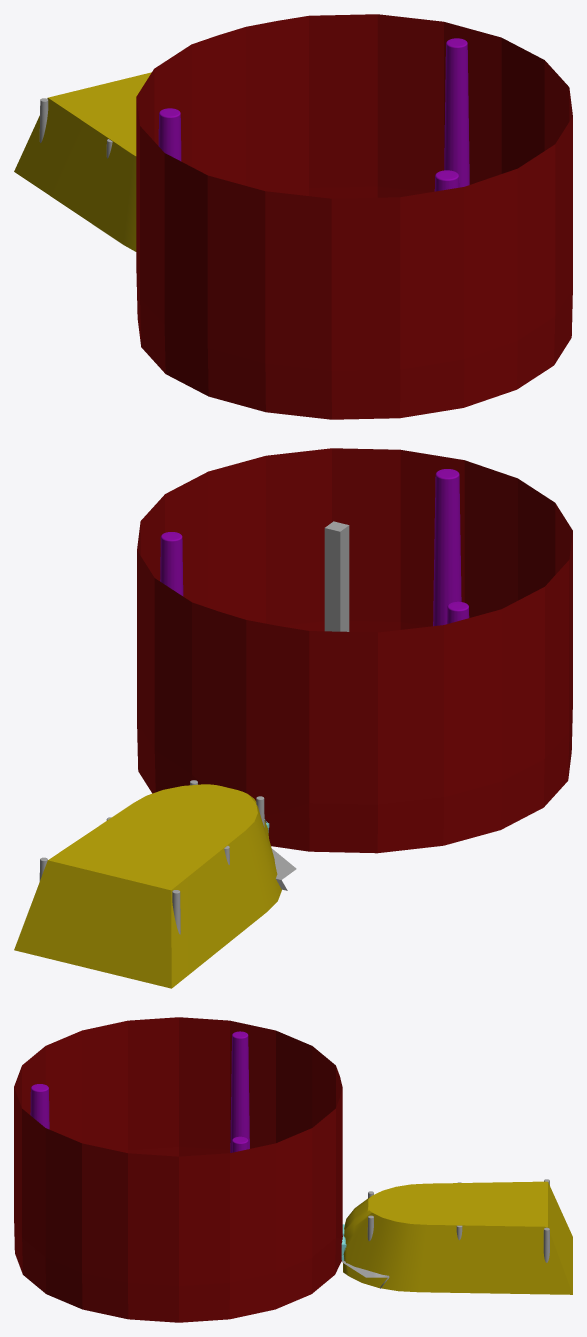
The picture shows the model from 3 angles, top to bottom: view 1: azimuth 30°, elevation 25°; view 2: azimuth 150°, elevation 25°; view 3: azimuth 270°, elevation 25°; orthographic projection. The views are drawn at different scales.
Parts seen in each view (by area): view 1: PisoSupay, PisoDescanso, polySurface6, polySurface7; view 2: PisoSupay, PisoDescanso, polySurface2, Sertra, polySurface6; view 3: PisoSupay, PisoDescanso, polySurface7, polySurface2.
Part boxes in pixels (bbox=[...]): PisoSupay: bbox=[136, 14, 572, 419]; PisoDescanso: bbox=[14, 72, 151, 251]; polySurface6: bbox=[444, 38, 469, 187]; polySurface7: bbox=[158, 108, 181, 161]; PisoSupay: bbox=[137, 448, 572, 853]; PisoDescanso: bbox=[14, 784, 281, 988]; polySurface2: bbox=[433, 469, 461, 626]; Sertra: bbox=[324, 521, 349, 631]; polySurface6: bbox=[160, 532, 183, 596]; PisoSupay: bbox=[14, 1017, 342, 1322]; PisoDescanso: bbox=[343, 1181, 572, 1294]; polySurface7: bbox=[230, 1031, 249, 1152]; polySurface2: bbox=[30, 1084, 49, 1129].
Bounding box in the file's own units: 48.51 × 29.01 × 82.18.
